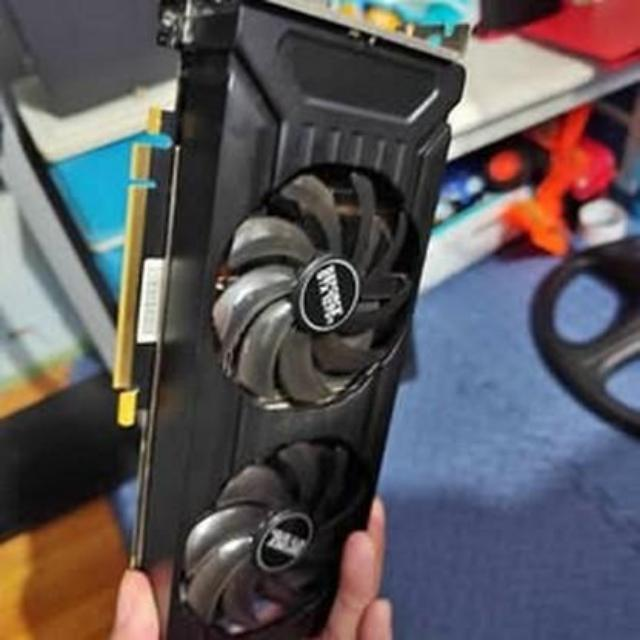GPU: (108, 0, 463, 637)
